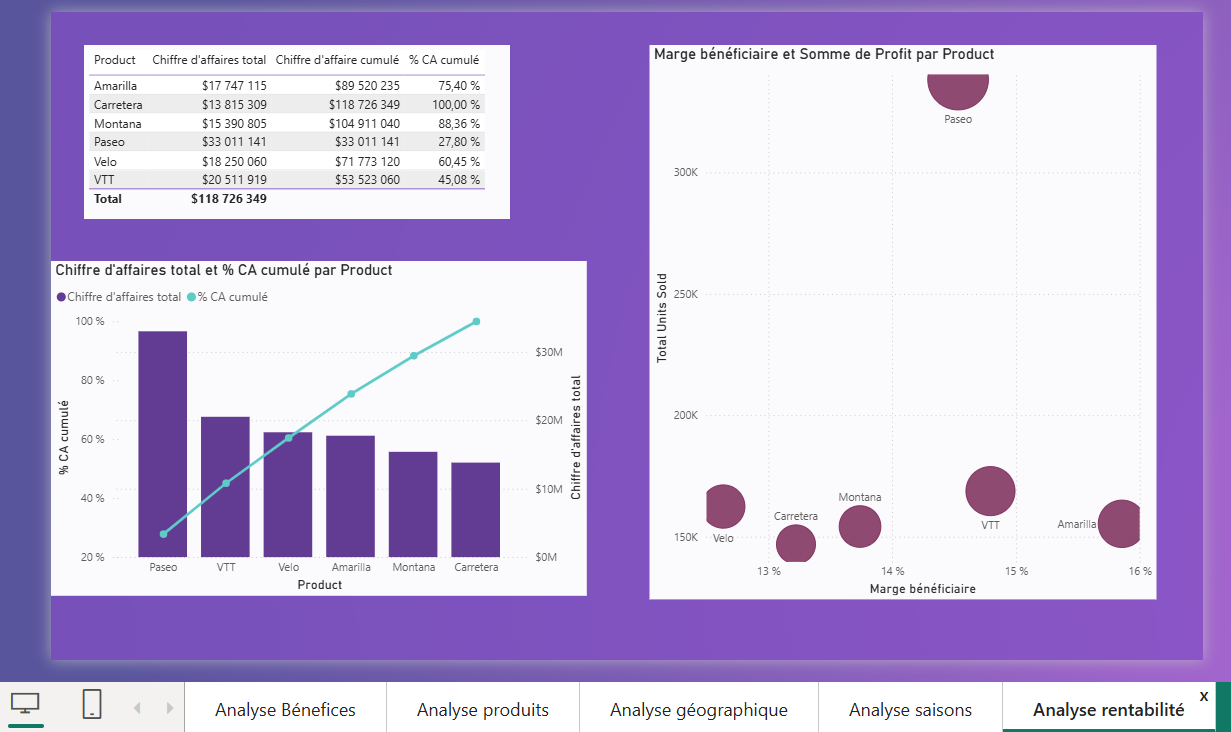

The dashboard page shown, as its layout file describes it:
{"tool":"powerbi","page":{"name":"Analyse rentabilité","canvas":[1280,720],"ordinal":4},"visuals":[{"type":"tableEx","fields":{"Values":["financials.Product","financials.Chiffre d'affaires total","Calendar.Chiffre d'affaire cumulé","Calendar.% CA cumulé"]},"box":[36.7,36.7,461.7,188.3],"z":0},{"type":"lineClusteredColumnComboChart","fields":{"Y":["financials.Chiffre d'affaires total"],"Category":["financials.Product"],"Y2":["Calendar.% CA cumulé"]},"box":[0,276.7,640,376.7],"z":1000},{"type":"scatterChart","title":"Marge bénéficiaire et Somme de Profit par Product","fields":{"Category":["financials.Product"],"Y":["financials.Total Units Sold"],"X":["financials.Marge bénéficiaire"],"Size":["Sum(financials.Profit)"]},"box":[666.7,36.7,563.3,495],"z":2000},{"type":"textbox","box":[666.7,550,563.3,103.3],"z":3000}]}

Visuals, with their boxes on the page's 1280x720 design canvas (x1, y1, x2, y2). These are canvas units, not pixel positions in the 1231x732 screenshot, which may show the page scaled, cropped or inside an application window:
tableEx - financials.Product x financials.Chiffre d'affaires total: x1=37 y1=37 x2=498 y2=225
lineClusteredColumnComboChart - financials.Chiffre d'affaires total x financials.Product: x1=0 y1=277 x2=640 y2=653
"Marge bénéficiaire et Somme de Profit par Product" scatterChart: x1=667 y1=37 x2=1230 y2=532
textbox: x1=667 y1=550 x2=1230 y2=653
